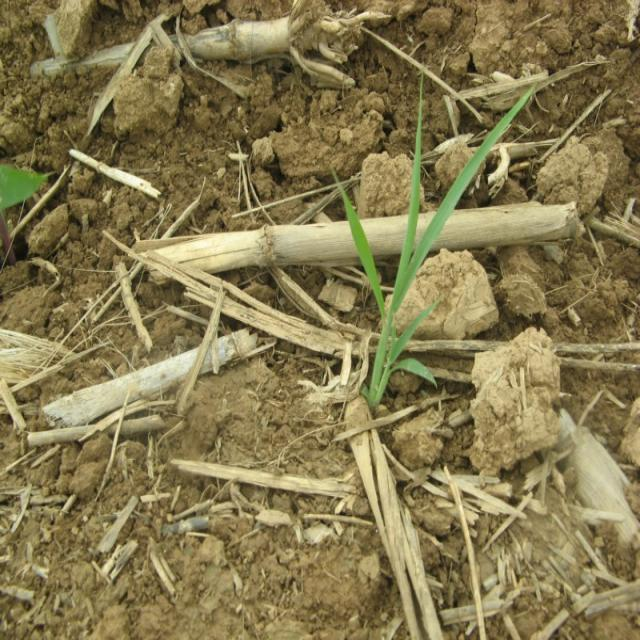bg: (331, 70, 531, 415)
